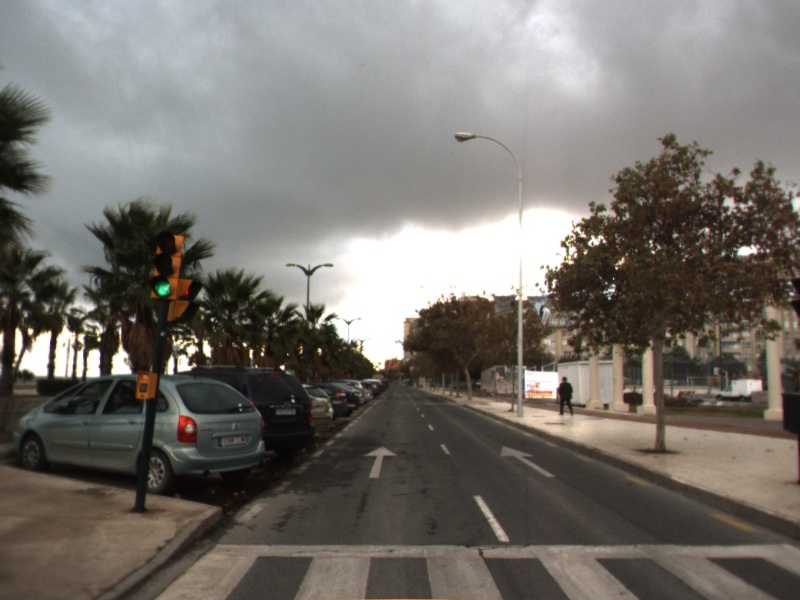STRAIGHT: (499, 445, 556, 479), (362, 444, 399, 480)
